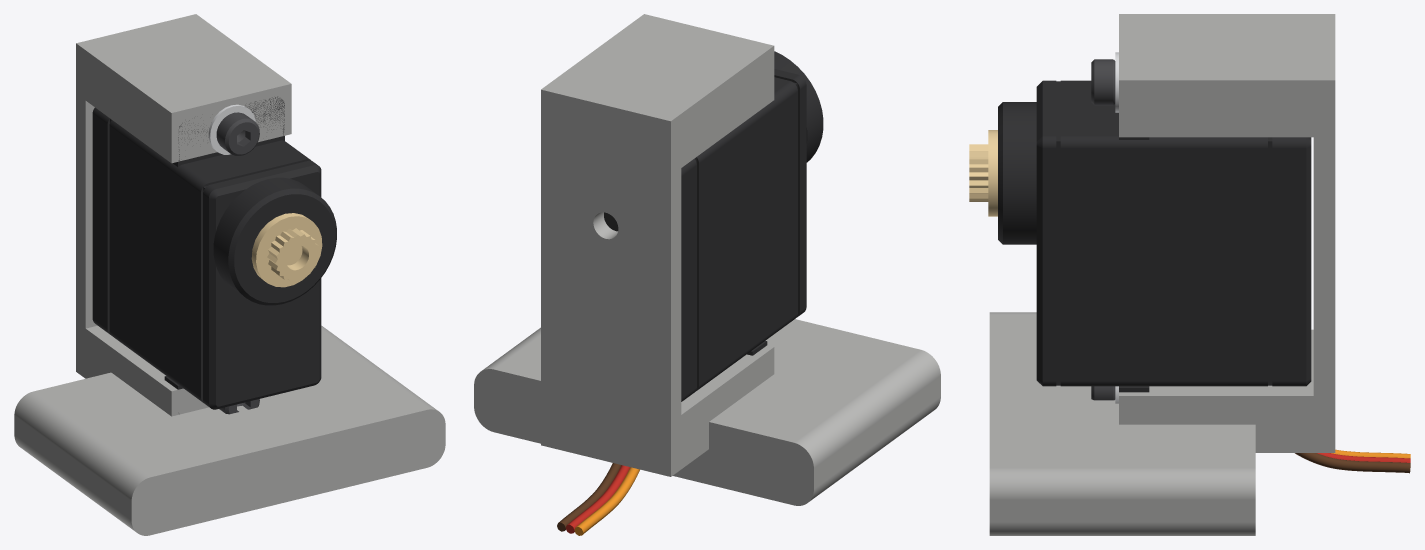
Rendered from hand.glb.
3 renders of one model, left to right at view 1: azimuth 30°, elevation 25°; view 2: azimuth 150°, elevation 25°; view 3: azimuth 270°, elevation 25°, orthographic. The views are drawn at different scales.
Parts seen in each view (by area): view 1: hand-body, hand-hardware; view 2: hand-body, hand-hardware; view 3: hand-body, hand-hardware.
Part boxes in pixels (box(x1,y1,x2,y2)): hand-body: box(14, 14, 445, 535); hand-hardware: box(208, 104, 322, 414); hand-body: box(474, 14, 940, 505); hand-hardware: box(557, 463, 639, 535); hand-body: box(989, 14, 1335, 535); hand-hardware: box(969, 52, 1410, 473).
Size of the model in its own units: 0.034 by 0.0384 by 0.0365.
